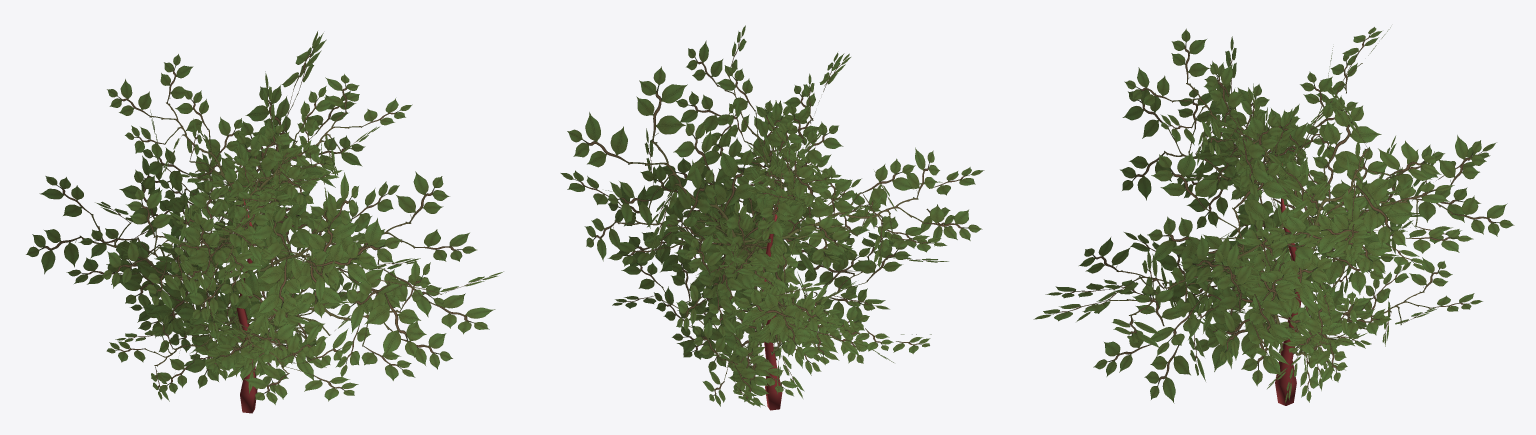
The model's file is Bush_01.FBX.
3 renders of one model, left to right at view 1: azimuth 30°, elevation 25°; view 2: azimuth 150°, elevation 25°; view 3: azimuth 270°, elevation 25°, orthographic. The views are drawn at different scales.
Visible parts, largest first — view 1: Bush_01; view 2: Bush_01; view 3: Bush_01.
Boxes of the visible parts, bbox=[...] form: Bush_01: bbox=[26, 31, 503, 413]; Bush_01: bbox=[560, 25, 984, 410]; Bush_01: bbox=[1033, 27, 1514, 405].
Size of the model in its own units: 2.16 by 1.9 by 2.3.
2 materials, 1 textured.
